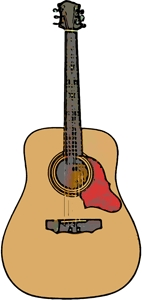guitar: (2, 1, 141, 298)
